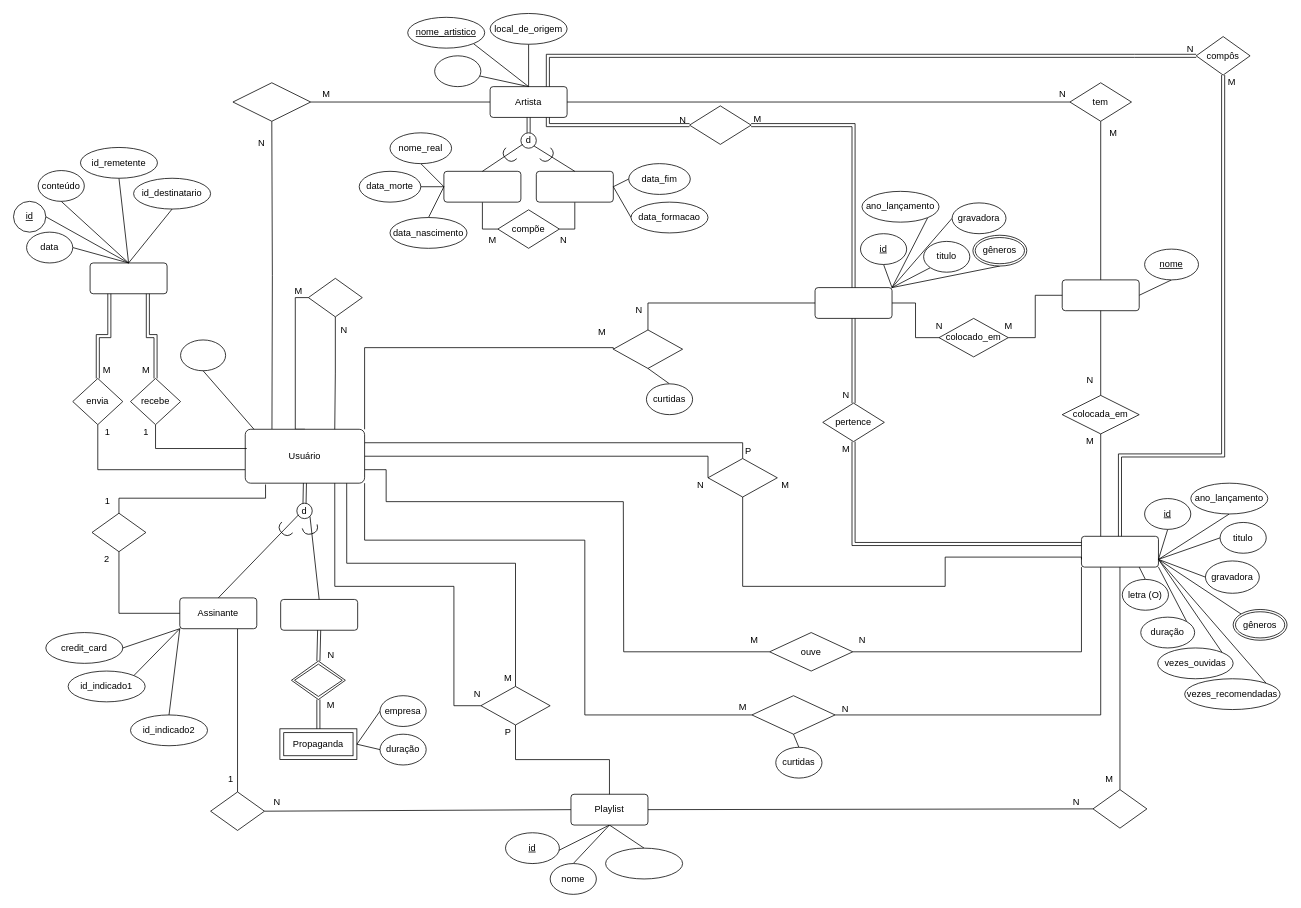
The diagram is 1301 pixels wide and 908 high, and some of its shapes have lost their labels. The centre of each missing label's shape, as x and y in pixels:
"amizade" goes at (x=335, y=297).
"bio" goes at (x=457, y=71).
"Categoria" goes at (x=1100, y=295).
"compartilha" goes at (x=515, y=705).
"contém" goes at (x=1119, y=808).
"cria" goes at (x=237, y=810).
"curte_album" goes at (x=648, y=348).
"curte_música" goes at (x=793, y=714).
"email" goes at (x=203, y=355).
"escuta" goes at (x=318, y=680).
"Grupo Musical" goes at (x=574, y=186).
"indica" goes at (x=118, y=532).
"Mensagem" goes at (x=128, y=278).
"Música" goes at (x=1119, y=551).
"Músico" goes at (x=482, y=186).
"Não-assinante" goes at (x=319, y=614).
"possui" goes at (x=720, y=124).
"Privacidade" goes at (x=644, y=863).
"recomenda" goes at (x=742, y=477).
"segue_artista" goes at (x=271, y=101).
"Álbum" goes at (x=853, y=302).
